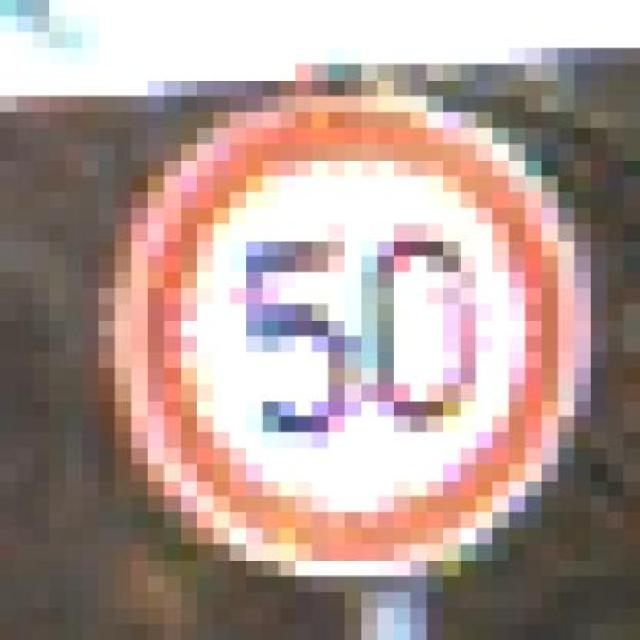50 mph speed limit: (98, 80, 624, 608)
